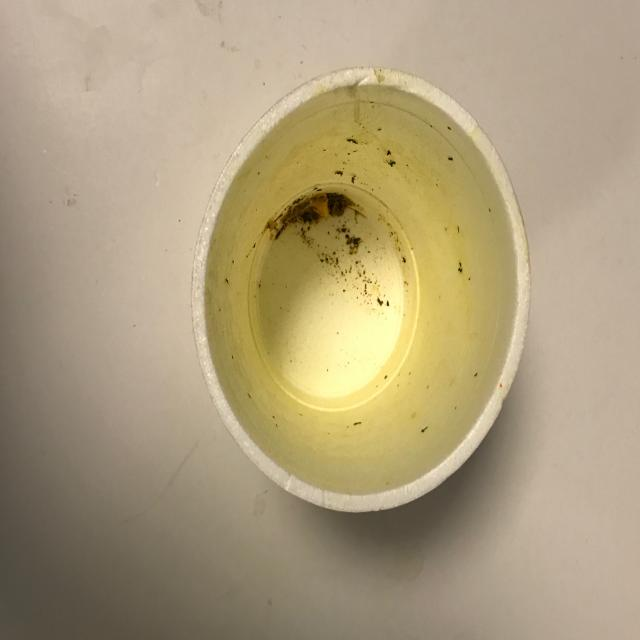Trash: (191, 66, 532, 513)
